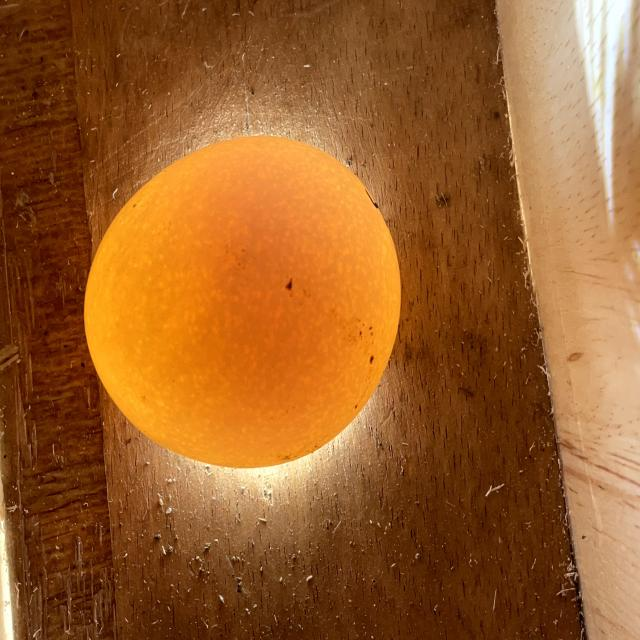infertile: (85, 137, 401, 467)
